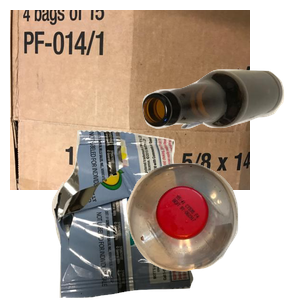cardboard: (10, 10, 250, 190)
glass: (140, 67, 300, 188)
plastic: (124, 161, 300, 300)
trash: (49, 130, 235, 300)
